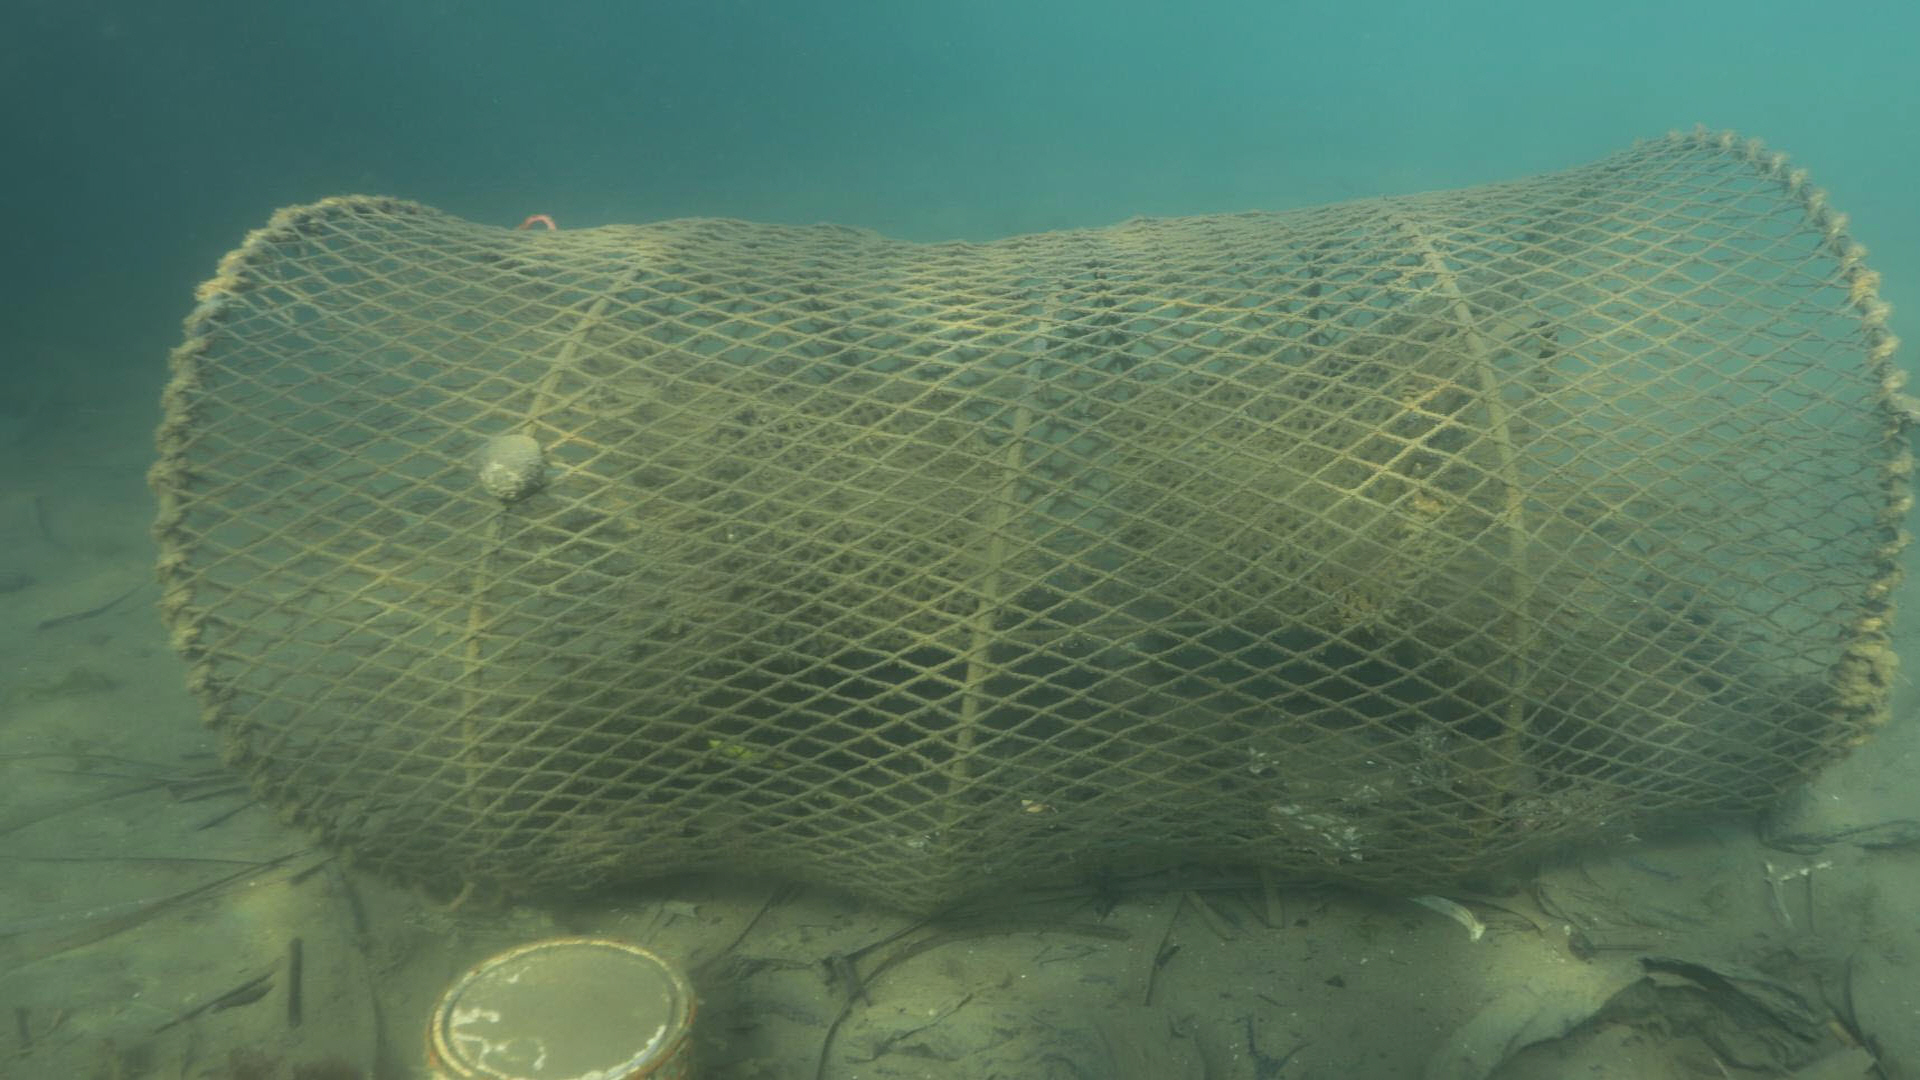spring fish trap: (146, 124, 1909, 920)
